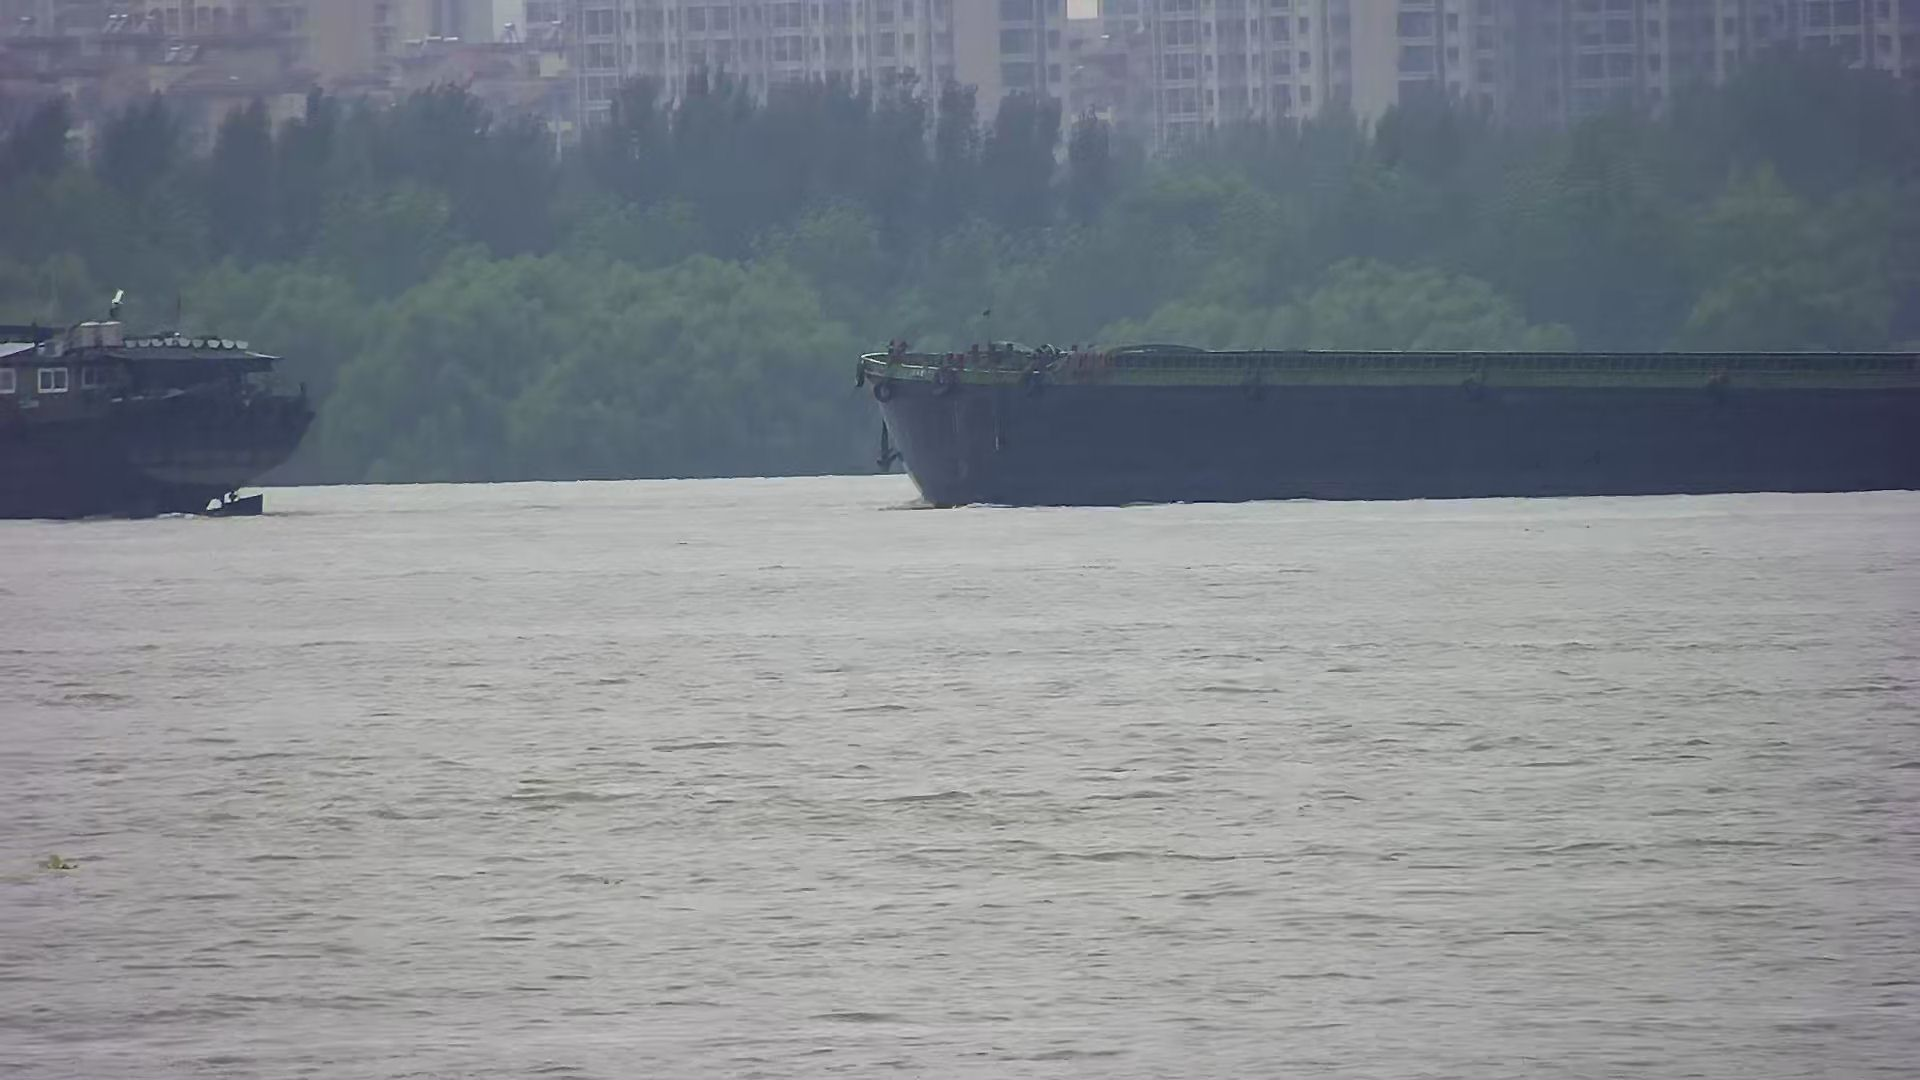rubbish: (36, 852, 82, 872)
ship: (862, 326, 1920, 510), (1, 289, 316, 520)
